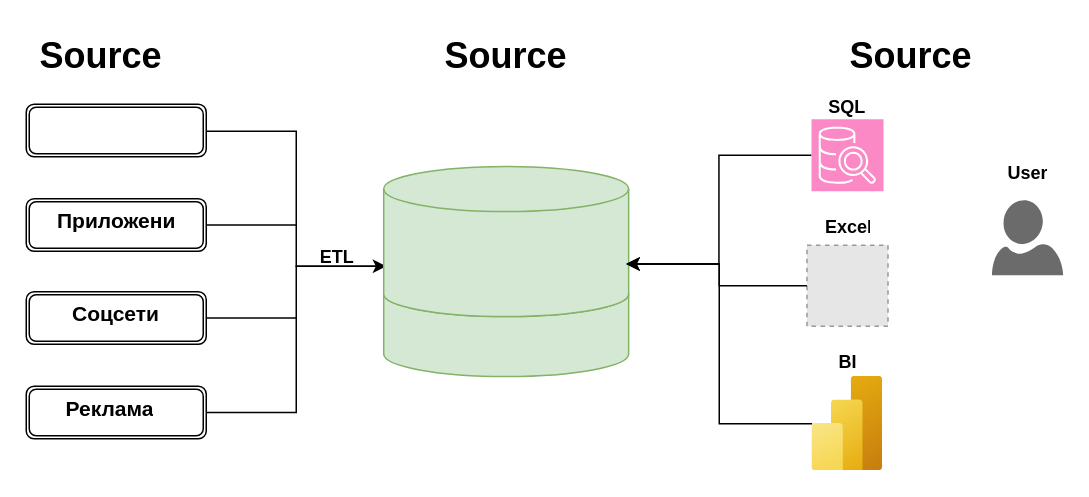
This 1089x497 diagram has some shape labels left out. Grey dashed boxes stand in for pictures. Here are the shapes that lost their labels. From the top down, the centre of each, then its label:
At (115,130): "Сайт".
At (505,240): "Хранилище данных".
